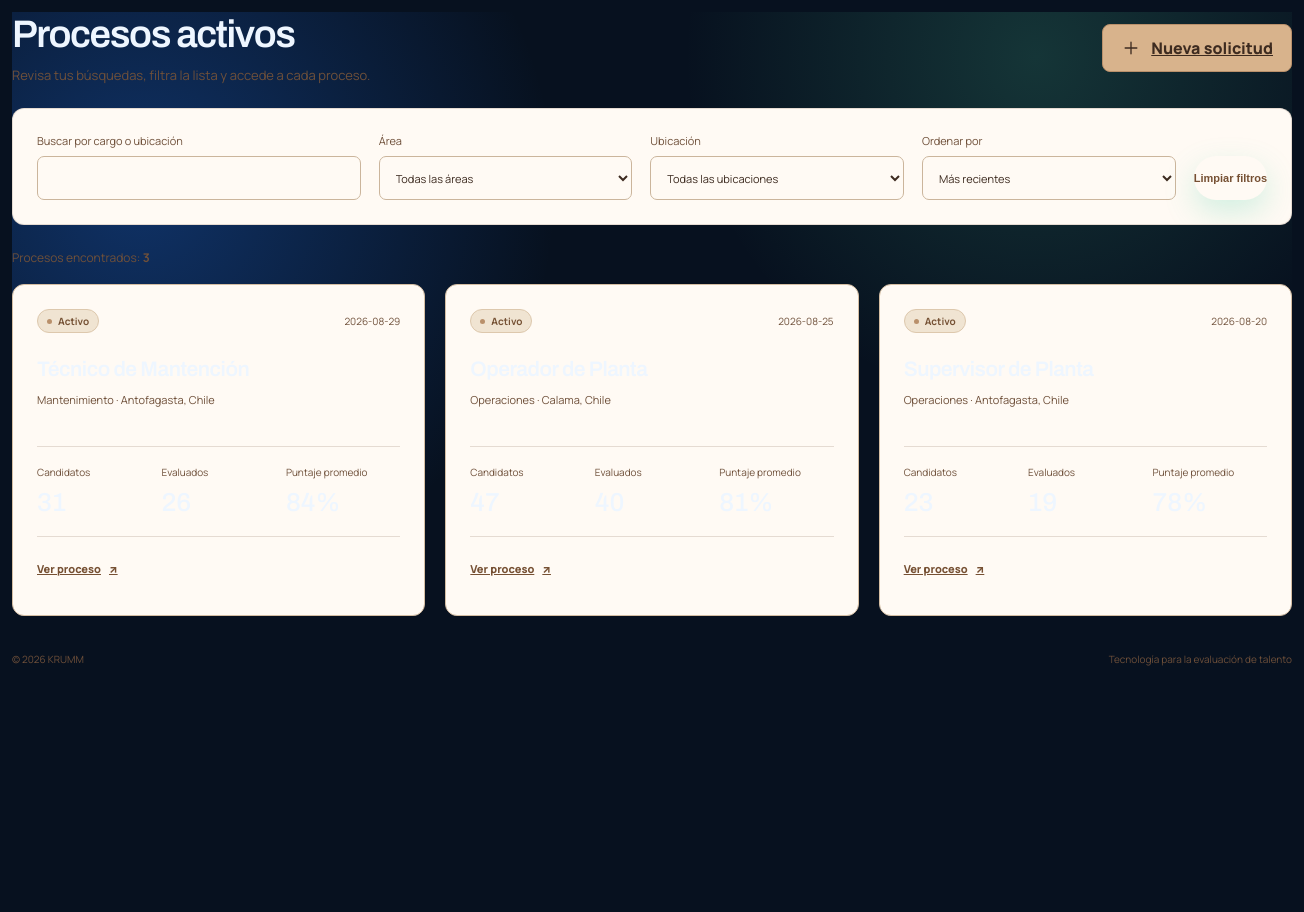
Test: D. CompanyProcessesPage (ref processes.html/js — filtros y sort operativos) › filtros combinados: operations + "planta" → 2; operations + "mantención" → 0 + empty
The width and height of the screenshot is (1304, 912).
Select "Operaciones" in the dropdown labelled "Área" at [506, 178], box 379,156 -> 632,200
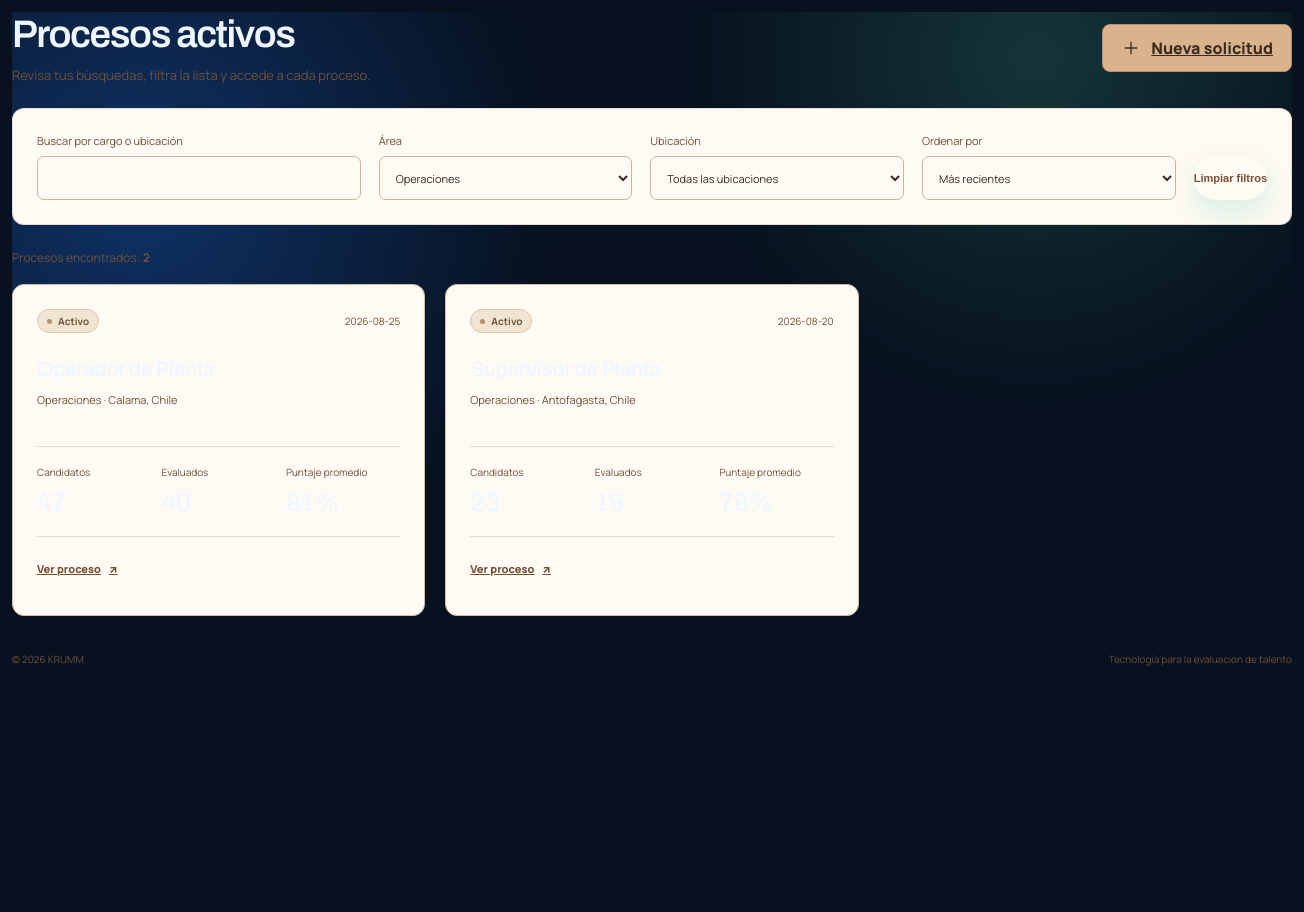
Type "planta" into the search field labelled "Buscar por cargo o ubicación".
click(199, 178); type("planta")  # box 37,156 -> 361,200
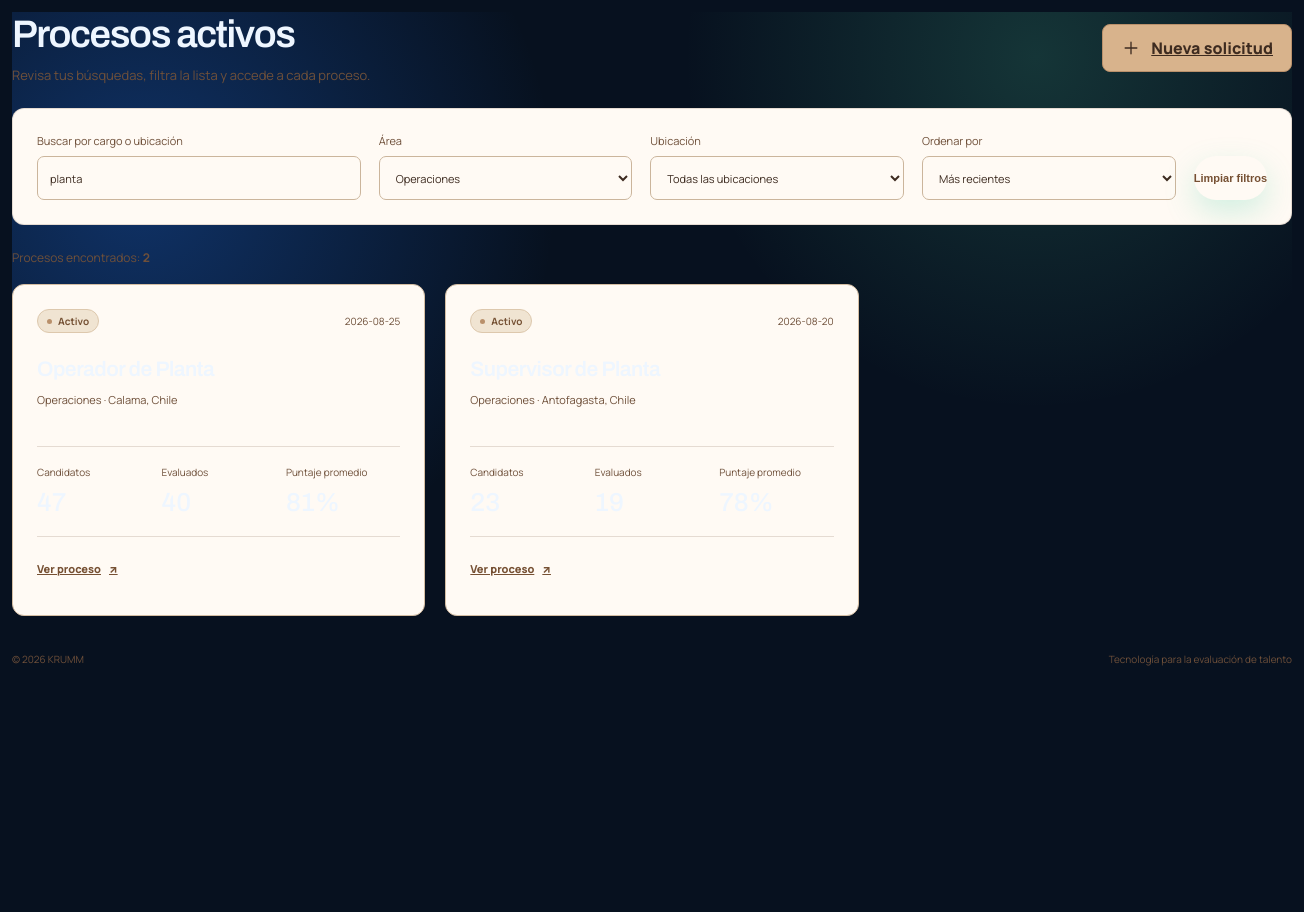
Replace the text in the search field labelled "Buscar por cargo o ubicación" with "mantencion" at [199, 178], box 37,156 -> 361,200
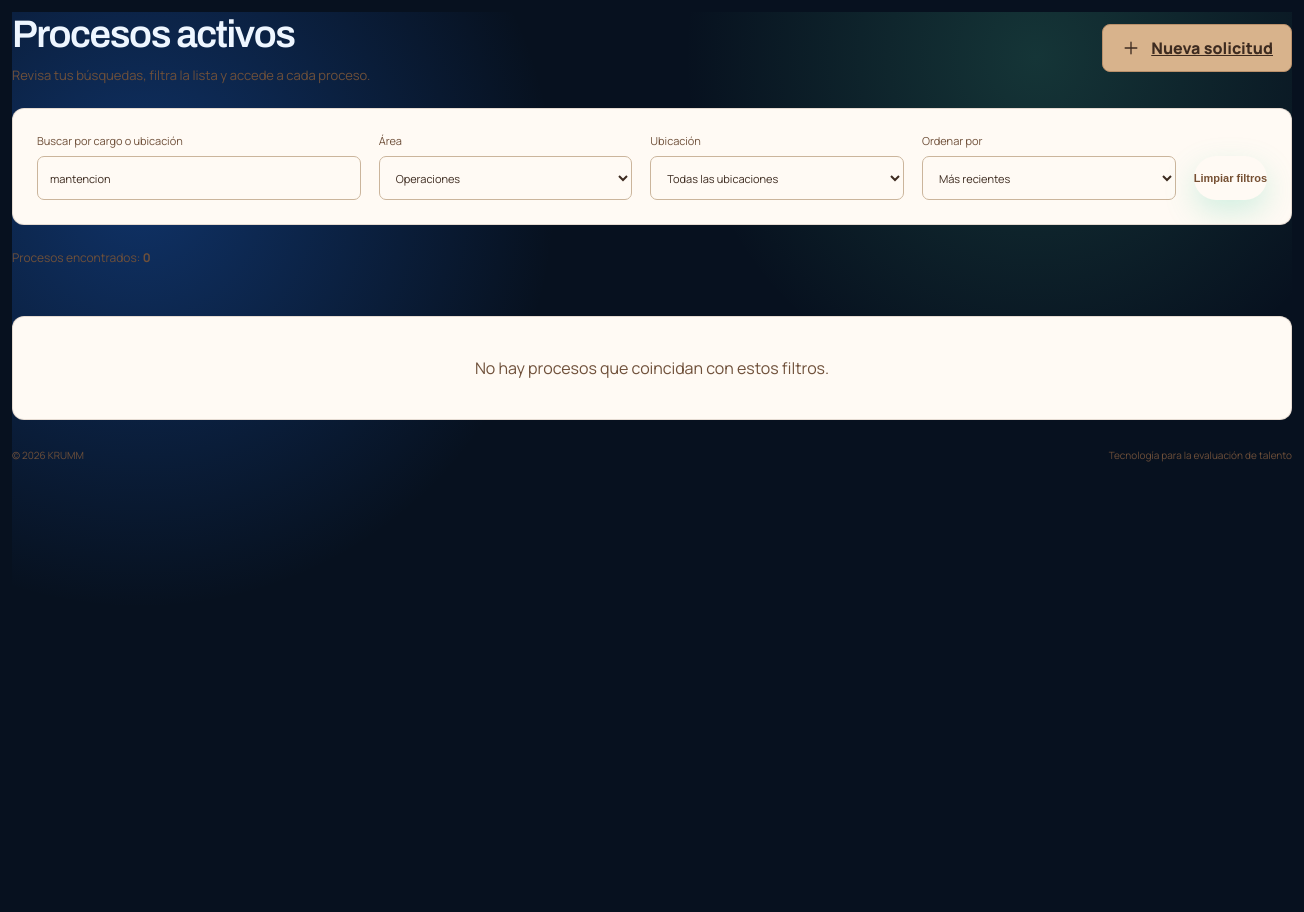
Now the text "No hay procesos que coincidan con estos filtros." is shown, box 12,316 -> 1292,420
